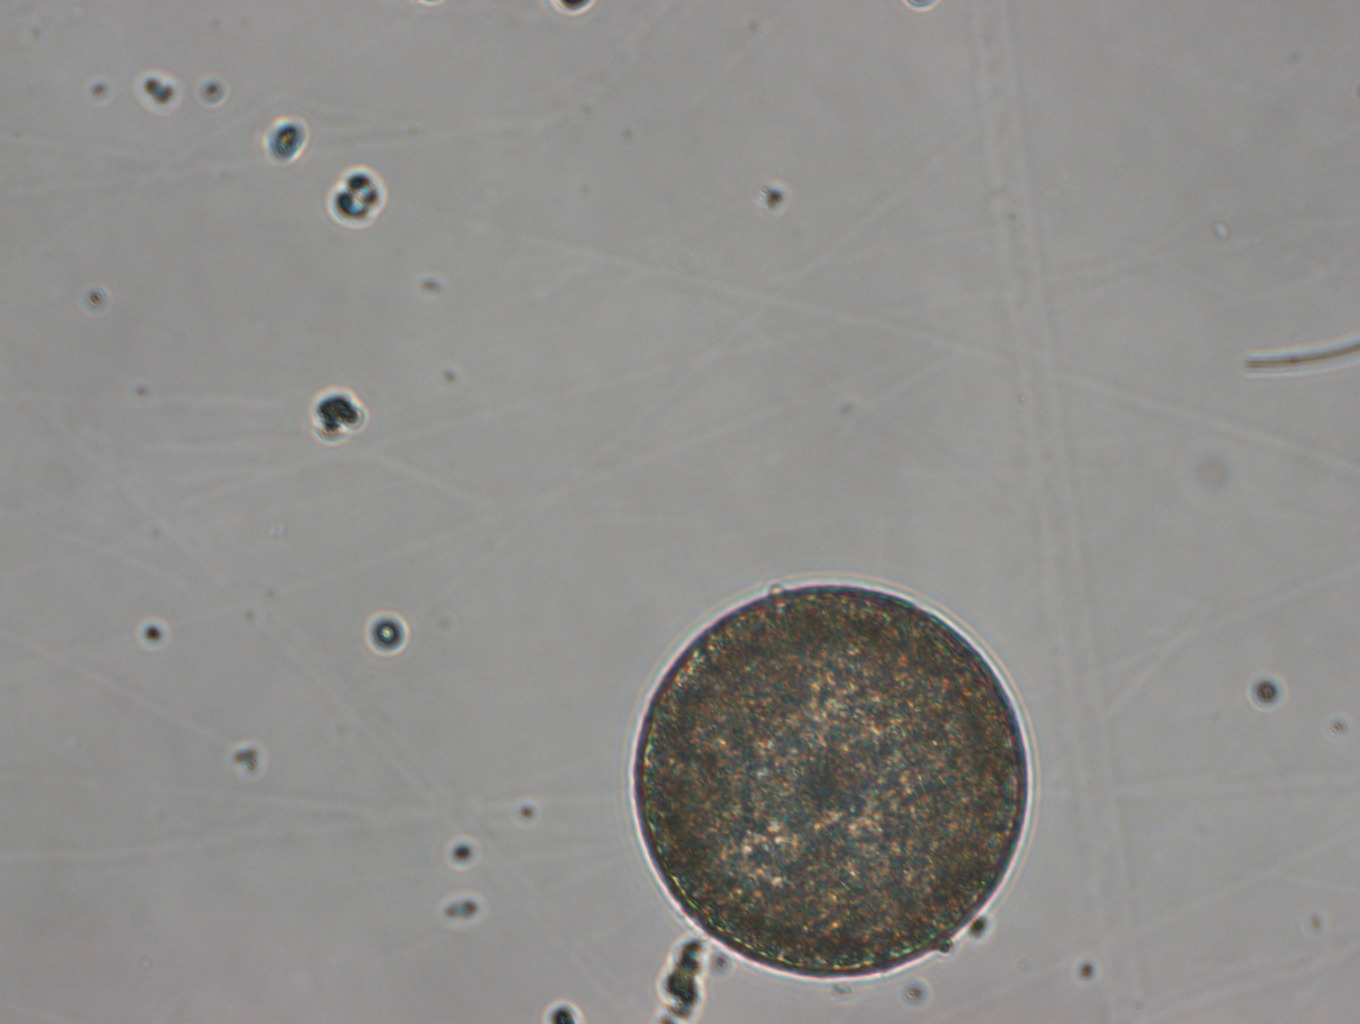coscinodiscus: (626, 581, 1041, 982)
